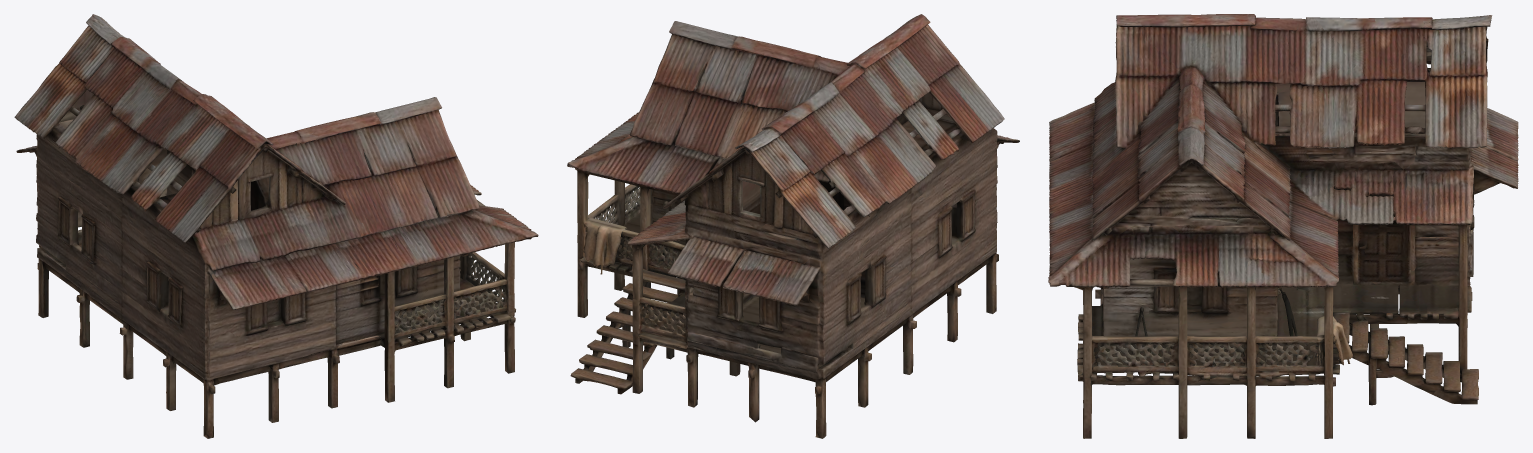
The model's file is wooden_with_rusty_roof_house_3d_model_free.glb.
3 renders of one model, left to right at view 1: azimuth 30°, elevation 25°; view 2: azimuth 150°, elevation 25°; view 3: azimuth 270°, elevation 25°, orthographic. The views are drawn at different scales.
Parts seen in each view (by area): view 1: tripo_node_4acb8723-85d1-4adb-934c-b0a96e4bbdd0_0; view 2: tripo_node_4acb8723-85d1-4adb-934c-b0a96e4bbdd0_0; view 3: tripo_node_4acb8723-85d1-4adb-934c-b0a96e4bbdd0_0.
Part boxes in pixels (box(x1,y1,x2,y2)): tripo_node_4acb8723-85d1-4adb-934c-b0a96e4bbdd0_0: box(14, 14, 538, 438); tripo_node_4acb8723-85d1-4adb-934c-b0a96e4bbdd0_0: box(567, 14, 1019, 438); tripo_node_4acb8723-85d1-4adb-934c-b0a96e4bbdd0_0: box(1048, 14, 1518, 438).
Size of the model in its own units: 0.8606 by 0.7051 by 1.
1 material, 1 textured.
